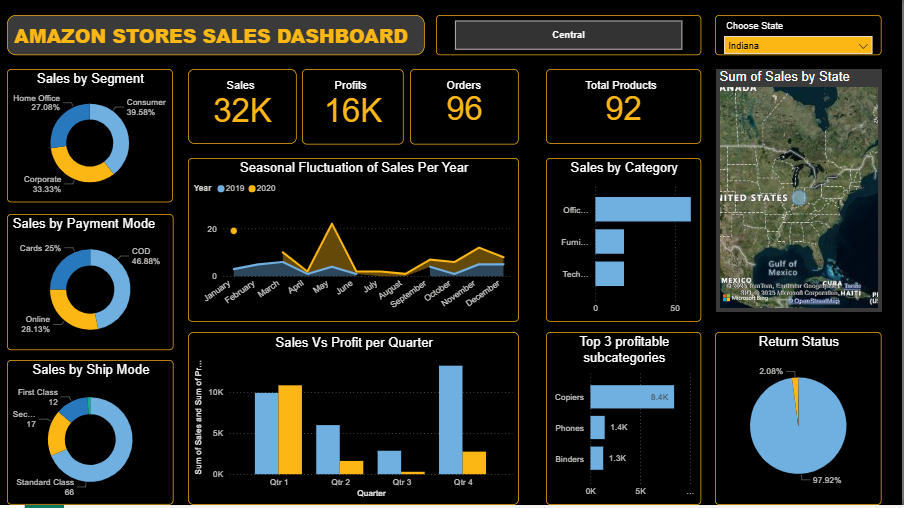

Layout of this report page (visuals, bound fields, positions):
{"tool":"powerbi","page":{"name":"Page 1","canvas":[1280,720],"ordinal":0},"visuals":[{"type":"donutChart","title":"Sales by Ship Mode","fields":{"Category":["Amazon_Store_Sales_Data_xlsx___Sheet1__1___1.Ship Mode"],"Y":["CountNonNull(Amazon_Store_Sales_Data_xlsx___Sheet1__1___1.Product ID)"]},"box":[11.4,514.9,236,204.5],"z":0},{"type":"donutChart","title":"Sales by Payment Mode","fields":{"Category":["Amazon_Store_Sales_Data_xlsx___Sheet1__1___1.Payment Mode"],"Y":["CountNonNull(Amazon_Store_Sales_Data_xlsx___Sheet1__1___1.Order ID)"]},"box":[11.4,307.5,236,193.1],"z":1000},{"type":"pieChart","title":"Return Status","fields":{"Category":["Amazon_Store_Sales_Data_xlsx___Sheet1__1___1.Returns"],"Y":["CountNonNull(Amazon_Store_Sales_Data_xlsx___Sheet1__1___1.Order ID)"]},"box":[1015.4,474.8,236,244.6],"z":2000},{"type":"stackedAreaChart","title":"Seasonal Fluctuation of Sales Per Year","fields":{"Y":["CountNonNull(Amazon_Store_Sales_Data_xlsx___Sheet1__1___1.Sales)"],"Category":["Amazon_Store_Sales_Data_xlsx___Sheet1__1___1.Order Date.Variation.Date Hierarchy.Month"],"Series":["Amazon_Store_Sales_Data_xlsx___Sheet1__1___1.Order Date.Variation.Date Hierarchy.Year"]},"box":[267.4,228.8,469.1,231.7],"z":3000},{"type":"barChart","title":"Sales by Category","fields":{"Category":["Amazon_Store_Sales_Data_xlsx___Sheet1__1___1.Category"],"Y":["CountNonNull(Amazon_Store_Sales_Data_xlsx___Sheet1__1___1.Sales)"]},"box":[775.2,228.8,220.2,231.7],"z":4000},{"type":"clusteredBarChart","title":"Top 3 profitable subcategories","fields":{"Category":["Amazon_Store_Sales_Data_xlsx___Sheet1__1___1.Sub-Category"],"Y":["Sum(Amazon_Store_Sales_Data_xlsx___Sheet1__1___1.Profit)"]},"box":[775.2,474.8,220.2,244.6],"z":5000},{"type":"donutChart","title":" Sales by Segment","fields":{"Y":["CountNonNull(Amazon_Store_Sales_Data_xlsx___Sheet1__1___1.Sales)"],"Category":["Amazon_Store_Sales_Data_xlsx___Sheet1__1___1.Segment"]},"box":[11.4,101.5,234.5,188.8],"z":6000},{"type":"card","fields":{"Values":["Sum(Amazon_Store_Sales_Data_xlsx___Sheet1__1___1.Sales)"]},"box":[267.9,102,154.5,106.3],"z":7000},{"type":"card","fields":{"Values":["Sum(Amazon_Store_Sales_Data_xlsx___Sheet1__1___1.Profit)"]},"box":[429.1,101.5,144.4,107.3],"z":8000},{"type":"card","fields":{"Values":["CountNonNull(Amazon_Store_Sales_Data_xlsx___Sheet1__1___1.Order ID)"]},"box":[582.1,101.5,154.5,107.3],"z":9000},{"type":"card","fields":{"Values":["Count(Amazon_Store_Sales_Data_xlsx___Sheet1__1___1.Product ID)"]},"box":[775.3,102,219.7,106.3],"z":10000},{"type":"clusteredColumnChart","title":"Sales Vs  Profit per Quarter","fields":{"Y":["Sum(Amazon_Store_Sales_Data_xlsx___Sheet1__1___1.Sales)","Sum(Amazon_Store_Sales_Data_xlsx___Sheet1__1___1.Profit)"],"Category":["Amazon_Store_Sales_Data_xlsx___Sheet1__1___1.Order Date.Variation.Date Hierarchy.Quarter"]},"box":[267.4,474.8,469.1,244.6],"z":11000},{"type":"slicer","fields":{"Values":["Amazon_Store_Sales_Data_xlsx___Sheet1__1___1.Region"]},"box":[619.3,25.7,376.1,57.2],"z":12000},{"type":"textbox","box":[11.4,25.7,592.1,57.2],"z":13000},{"type":"slicer","fields":{"Values":["Amazon_Store_Sales_Data_xlsx___Sheet1__1___1.State"]},"box":[1015.4,25.7,236,57.2],"z":14000},{"type":"map","fields":{"Size":["Sum(Amazon_Store_Sales_Data_xlsx___Sheet1__1___1.Sales)"],"Category":["Amazon_Store_Sales_Data_xlsx___Sheet1__1___1.State"]},"box":[1016,102.7,235.5,343.9],"z":15000},{"type":"textbox","box":[316.8,111.3,88.5,44.2],"z":16000},{"type":"textbox","box":[470.9,111.3,77.1,44.2],"z":17000},{"type":"textbox","box":[629.3,112,69.4,43.9],"z":18000},{"type":"textbox","box":[807.9,112,147.4,42.5],"z":19000}]}

Visuals, with their boxes in screenshot pixels (x1, y1, x2, y2), scaled from the page's 1280x720 canvas onto the 904x508 screenshot:
"Sales by Ship Mode" donutChart: <bbox>8, 363, 175, 507</bbox>
"Sales by Payment Mode" donutChart: <bbox>8, 217, 175, 353</bbox>
"Return Status" pieChart: <bbox>717, 335, 884, 507</bbox>
"Seasonal Fluctuation of Sales Per Year" stackedAreaChart: <bbox>189, 161, 520, 325</bbox>
"Sales by Category" barChart: <bbox>547, 161, 703, 325</bbox>
"Top 3 profitable subcategories" clusteredBarChart: <bbox>547, 335, 703, 507</bbox>
" Sales by Segment" donutChart: <bbox>8, 72, 174, 205</bbox>
card - Sum(Amazon_Store_Sales_Data_xlsx___Sheet1__1___1.Sales): <bbox>189, 72, 298, 147</bbox>
card - Sum(Amazon_Store_Sales_Data_xlsx___Sheet1__1___1.Profit): <bbox>303, 72, 405, 147</bbox>
card - CountNonNull(Amazon_Store_Sales_Data_xlsx___Sheet1__1___1.Order ID): <bbox>411, 72, 520, 147</bbox>
card - Count(Amazon_Store_Sales_Data_xlsx___Sheet1__1___1.Product ID): <bbox>548, 72, 703, 147</bbox>
"Sales Vs  Profit per Quarter" clusteredColumnChart: <bbox>189, 335, 520, 507</bbox>
slicer - Amazon_Store_Sales_Data_xlsx___Sheet1__1___1.Region: <bbox>437, 18, 703, 58</bbox>
textbox: <bbox>8, 18, 426, 58</bbox>
slicer - Amazon_Store_Sales_Data_xlsx___Sheet1__1___1.State: <bbox>717, 18, 884, 58</bbox>
map - Sum(Amazon_Store_Sales_Data_xlsx___Sheet1__1___1.Sales) x Amazon_Store_Sales_Data_xlsx___Sheet1__1___1.State: <bbox>718, 72, 884, 315</bbox>
textbox: <bbox>224, 79, 286, 110</bbox>
textbox: <bbox>333, 79, 387, 110</bbox>
textbox: <bbox>444, 79, 493, 110</bbox>
textbox: <bbox>571, 79, 675, 109</bbox>
